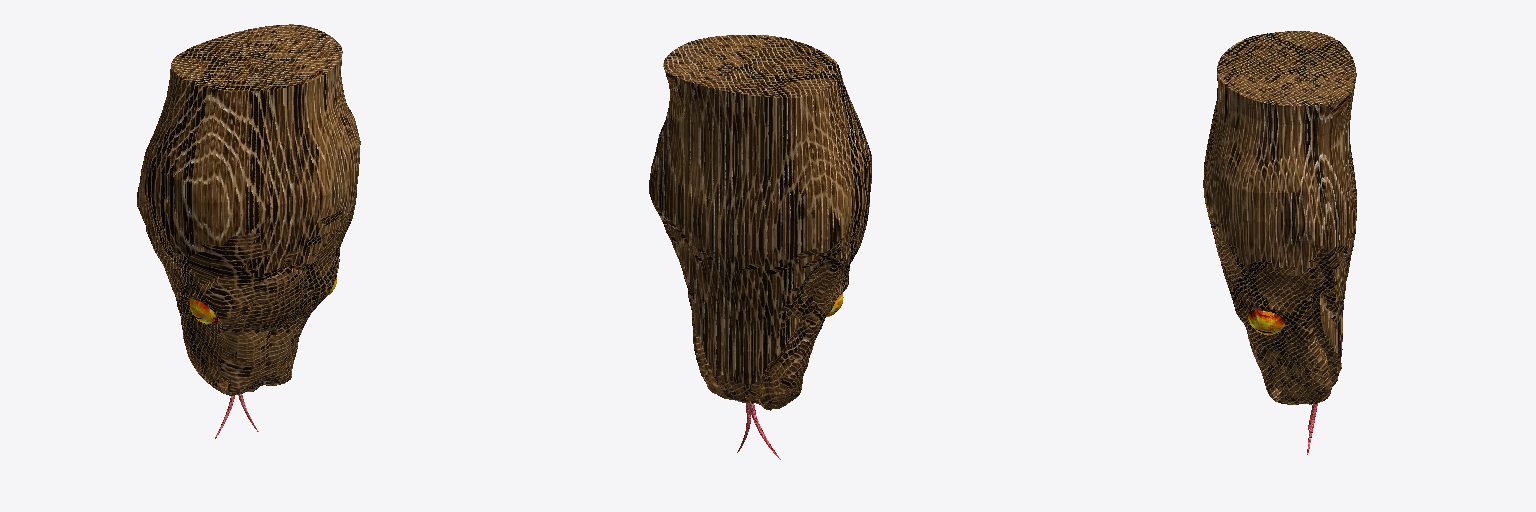
3 views of the same model, side by side, from view 1: azimuth 30°, elevation 25°; view 2: azimuth 150°, elevation 25°; view 3: azimuth 270°, elevation 25° (orthographic).
Visible parts, largest first — view 1: Object.1; view 2: Object.1; view 3: Object.1.
Part boxes in pixels (left/top/right/bottom): Object.1: left=137, top=24, right=360, bottom=438; Object.1: left=649, top=35, right=871, bottom=459; Object.1: left=1203, top=31, right=1356, bottom=454.
Bounding box in the file's own units: 57.43 × 107 × 38.87.
Materials: 3 (3 with a texture image).